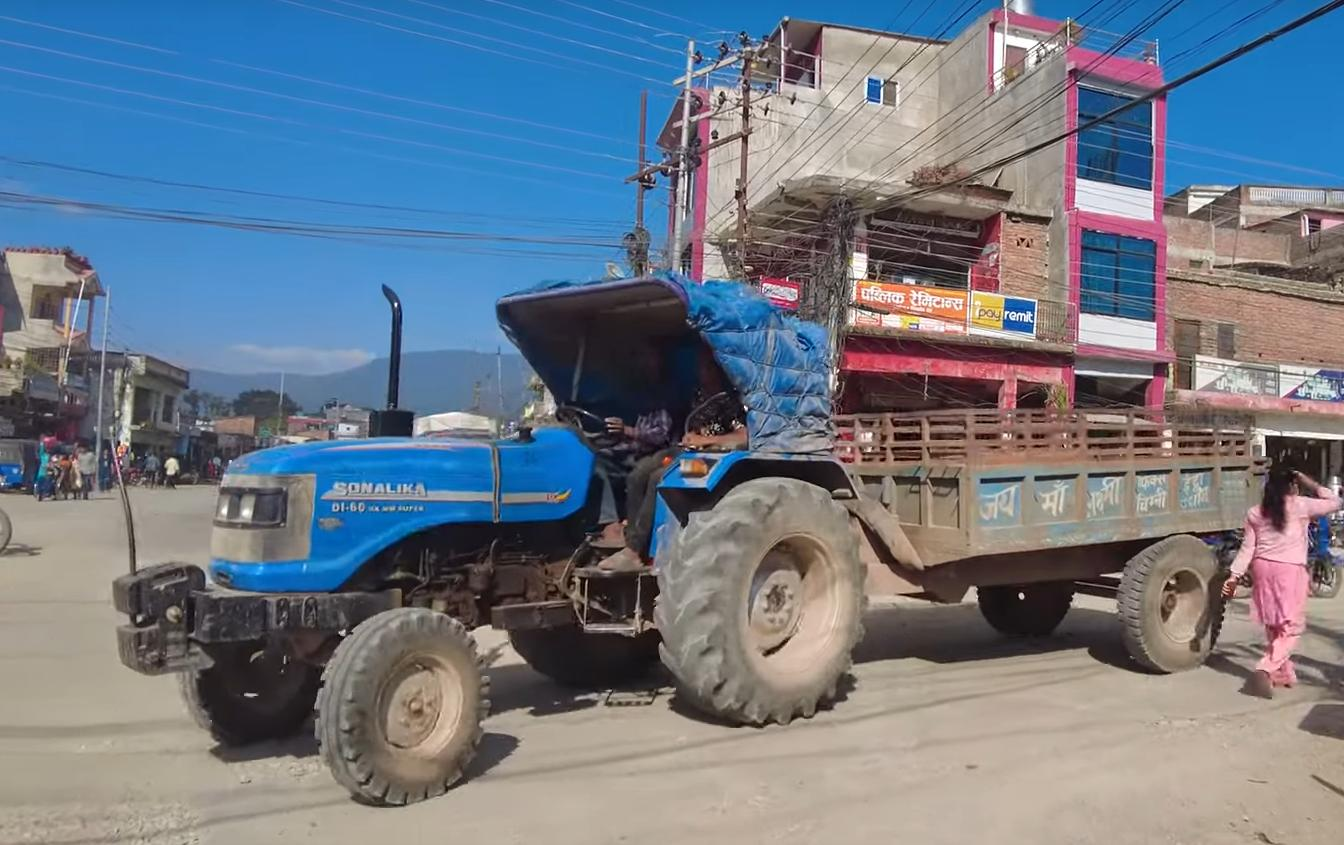tractor: (94, 225, 883, 824)
